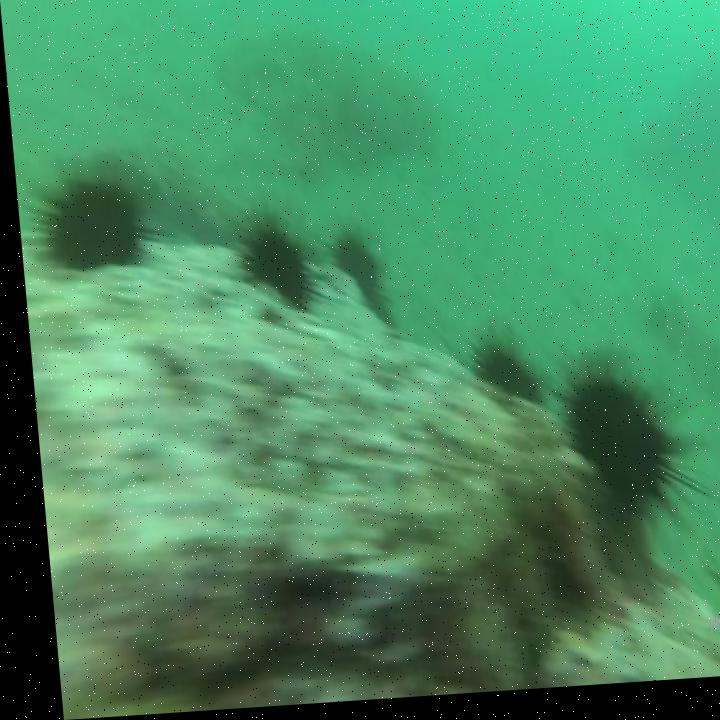echinus: (551, 363, 669, 564), (27, 171, 147, 282), (231, 216, 308, 323), (321, 223, 389, 322), (465, 345, 535, 423)
